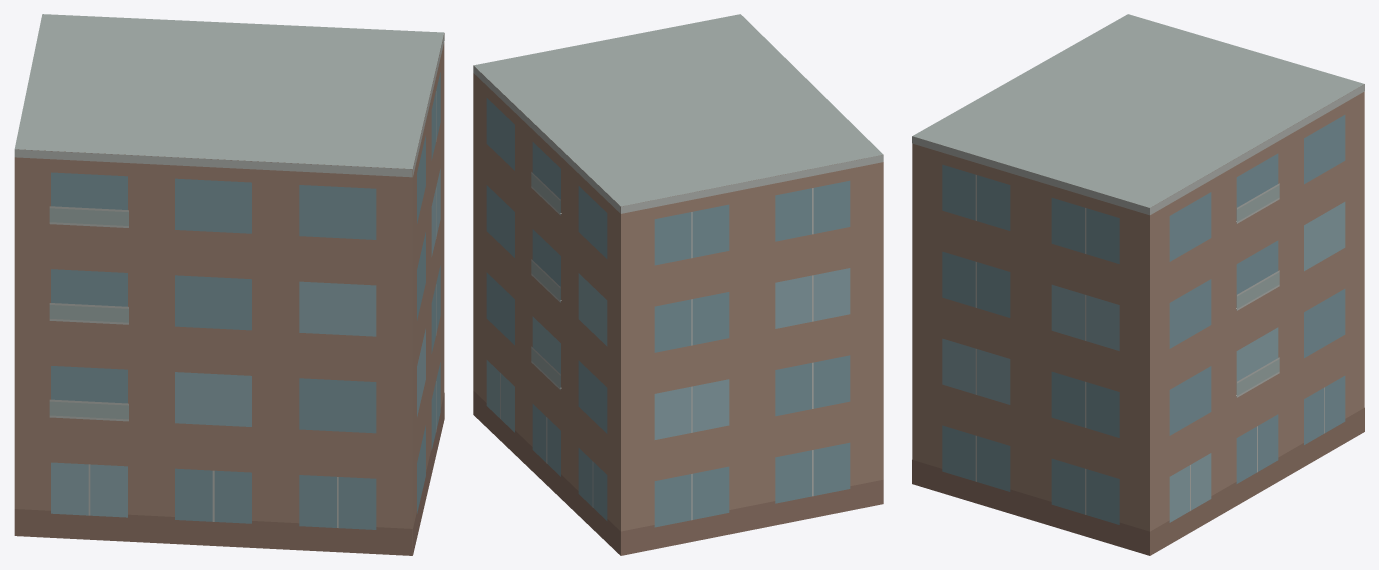
The model's file is survey-upis-32747833.glb.
The picture shows the model from 3 angles, left to right: view 1: azimuth 30°, elevation 25°; view 2: azimuth 150°, elevation 25°; view 3: azimuth 270°, elevation 25°; orthographic projection. The views are drawn at different scales.
Visible parts, largest first — view 1: survey-upis-32747833.tmp; view 2: survey-upis-32747833.tmp; view 3: survey-upis-32747833.tmp.
Boxes of the visible parts, x1,y1,x2,y2 form: survey-upis-32747833.tmp: [14, 14, 444, 555]; survey-upis-32747833.tmp: [473, 14, 883, 555]; survey-upis-32747833.tmp: [912, 14, 1364, 555].
Size of the model in its own units: 13.82 by 11.55 by 13.63.
